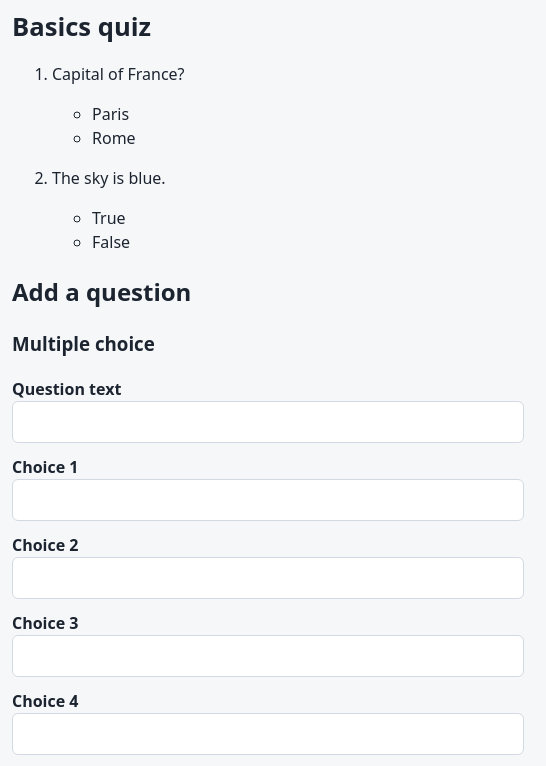
Scenario: QuizAuthoringPage › rejects a multiple-choice question with one choice
This screenshot has width=546, height=766.
Type "Pick one" into the field labelled "Question text" at (268, 422), box [12,401,524,443]
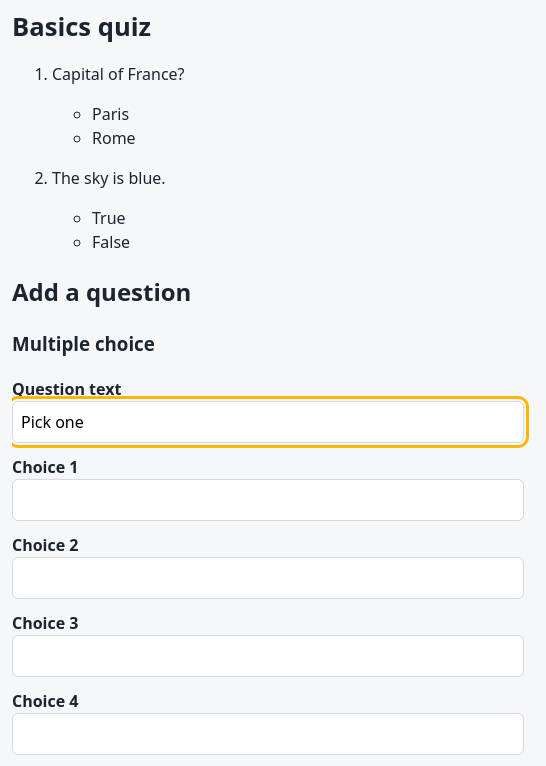
Type "a" into the field labelled "Choice 1" at (268, 500), box [12,479,524,521]
(page scrolled)
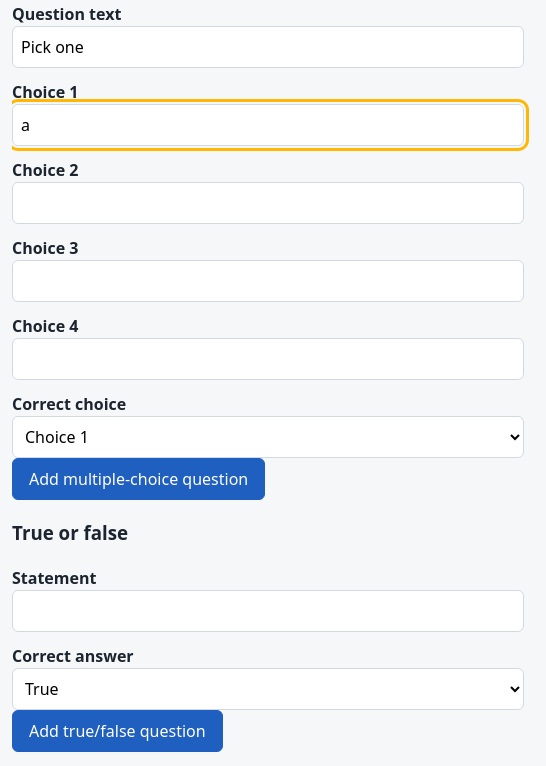
Select "Choice 1" in the dropdown labelled "Correct choice" at (268, 437), box [12,416,524,458]
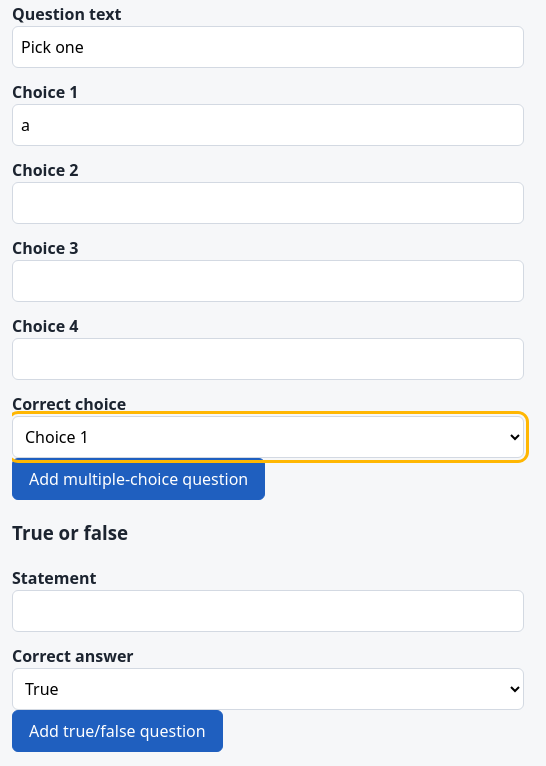
Click the button "Add multiple-choice question" at (139, 479), box [12,458,265,500]
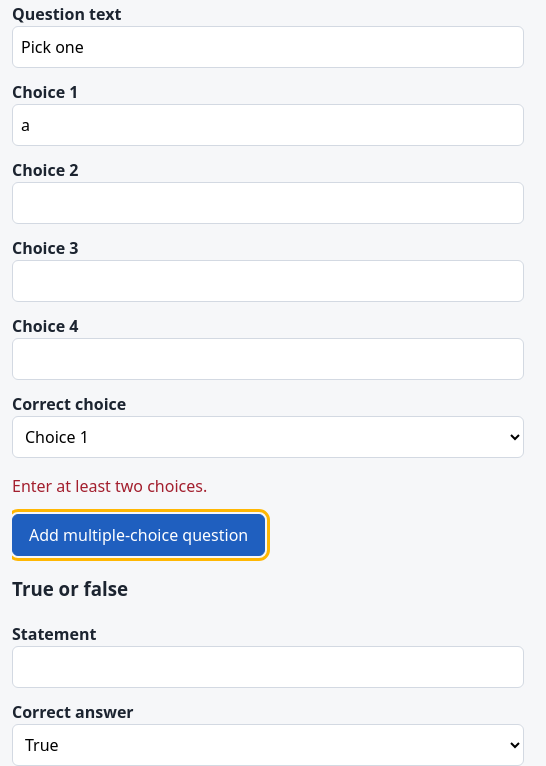
Check: the message shows "at least two choices", box [12,475,207,497]
